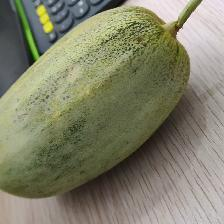gua: (6, 14, 160, 172)
